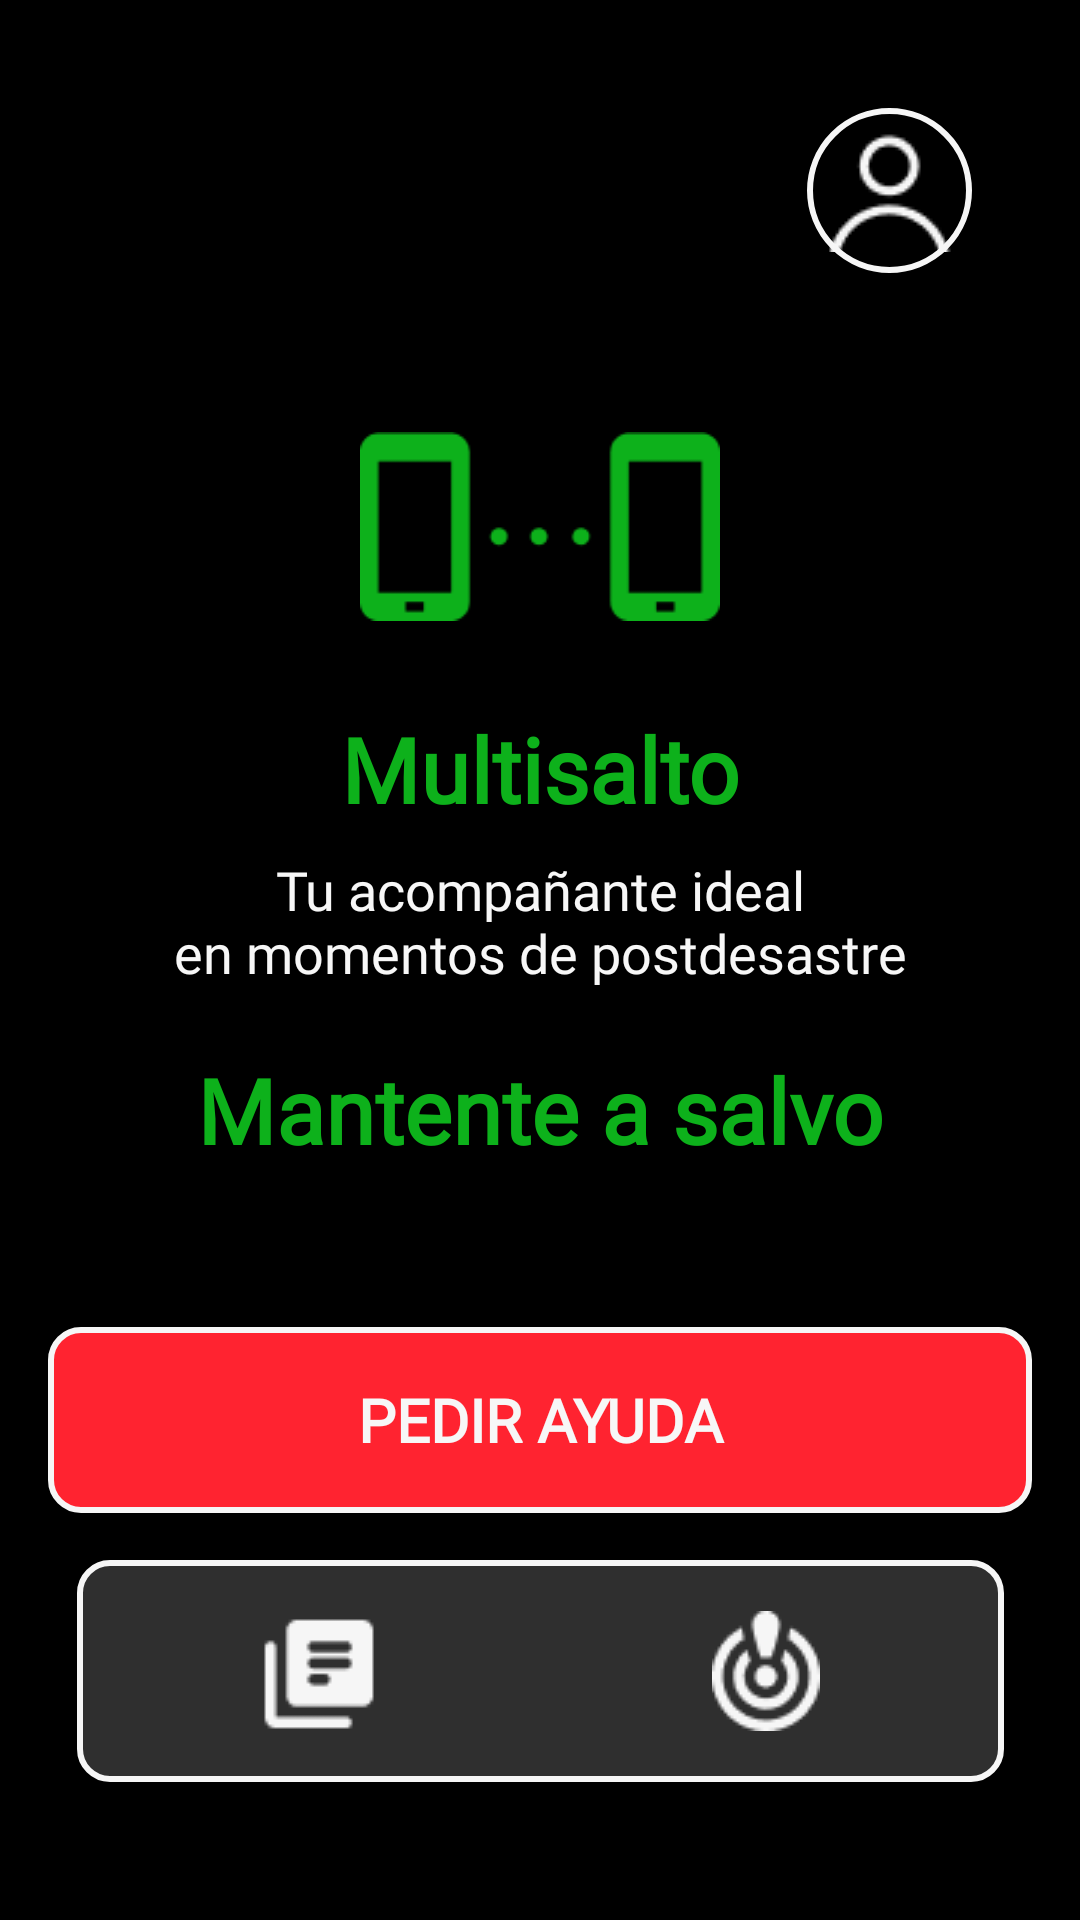

Point at icon controls on the screen. Image size 1080×1920, points as (x=x, y=y).
Biblioteca: (x=319, y=1674)
Botón de configuración de perfil: (x=889, y=190)
dispositivos: (x=540, y=526)
Radar: (x=766, y=1671)
